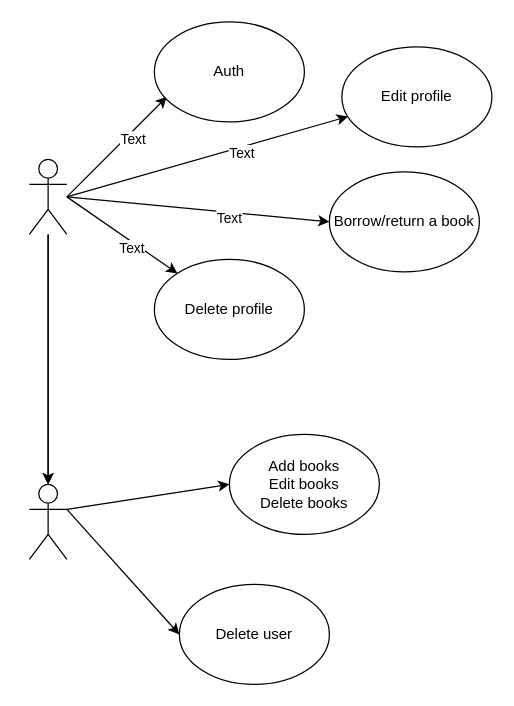
Image size: 514x706. Some labels were removed from this diagram. Here are the shapes that lost their labels. From the top down, the box of each, then its label:
(28, 158, 67, 234): Korisnik
(28, 483, 67, 559): Admin
